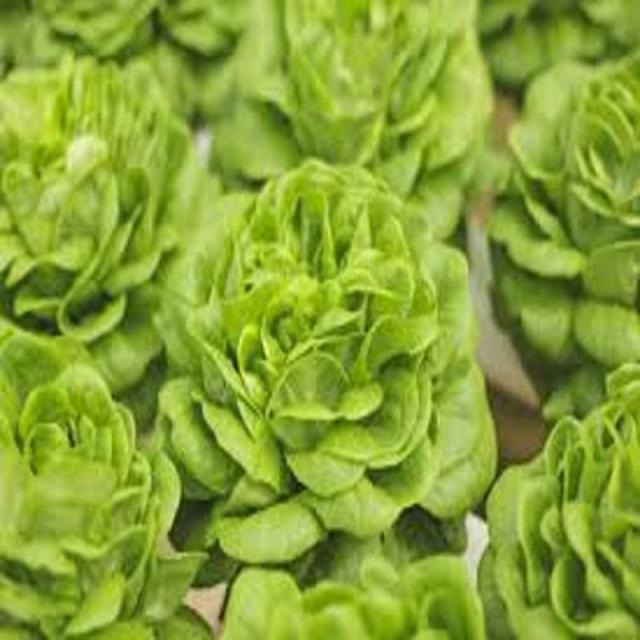Lettuce: (160, 168, 492, 572), (208, 3, 510, 252), (0, 57, 210, 355), (0, 345, 195, 640), (493, 59, 640, 406), (478, 391, 640, 639)
